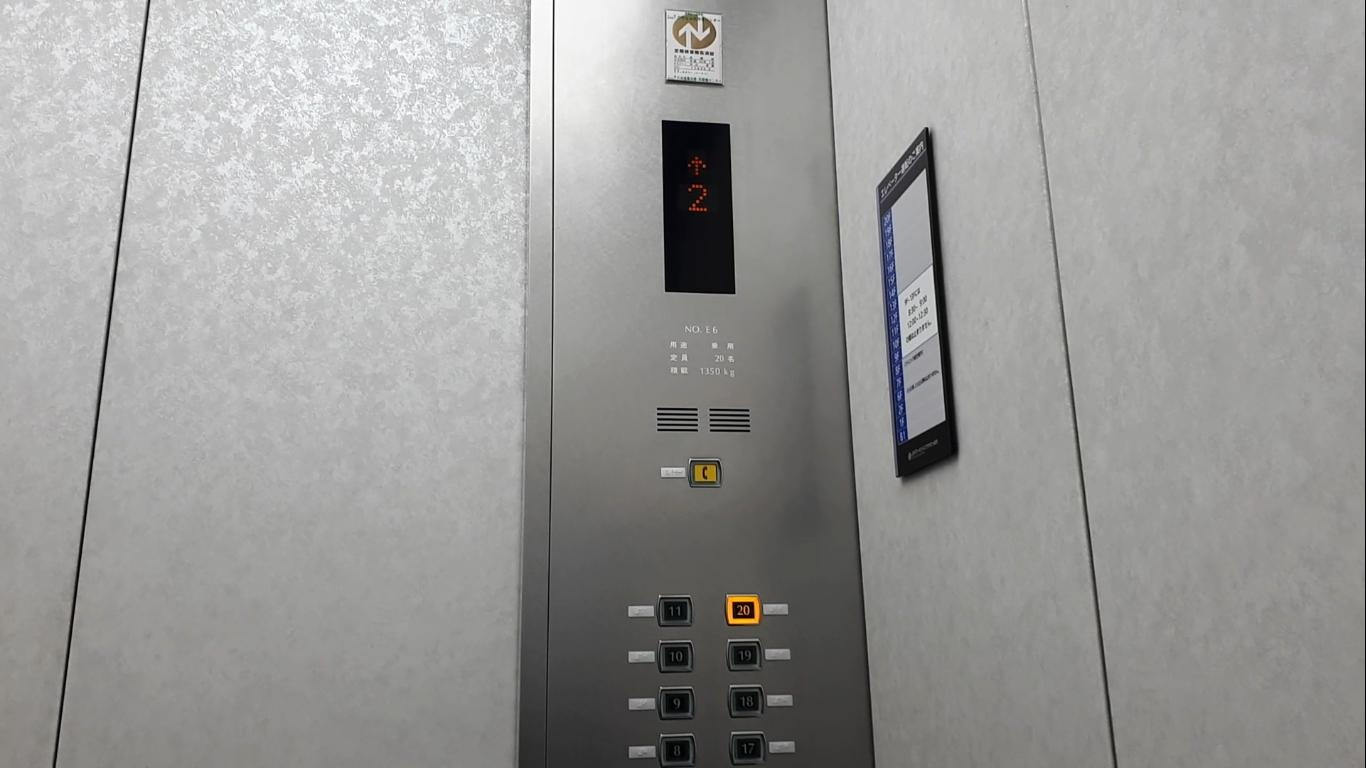10: (656, 639, 696, 675)
11: (656, 593, 696, 629)
17: (728, 731, 768, 767)
18: (726, 683, 766, 719)
19: (724, 637, 764, 673)
20: (723, 592, 763, 628)
8: (658, 732, 698, 768)
9: (657, 685, 697, 721)
call: (685, 456, 726, 490)
led: (658, 115, 739, 299)
